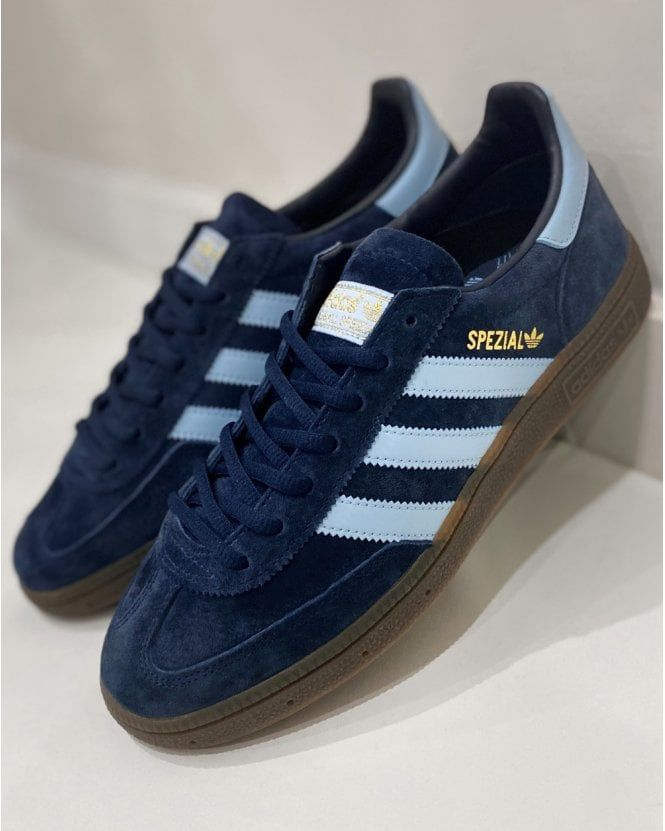gamuza: (12, 79, 629, 722)
